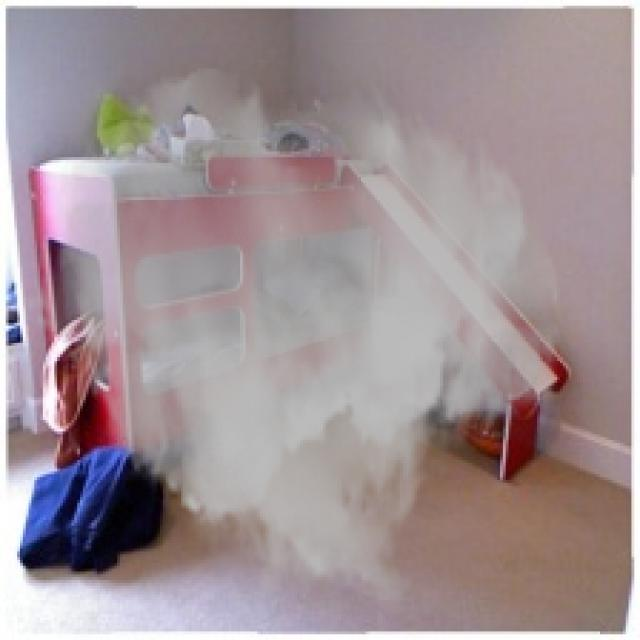smoke: (23, 63, 566, 617)
